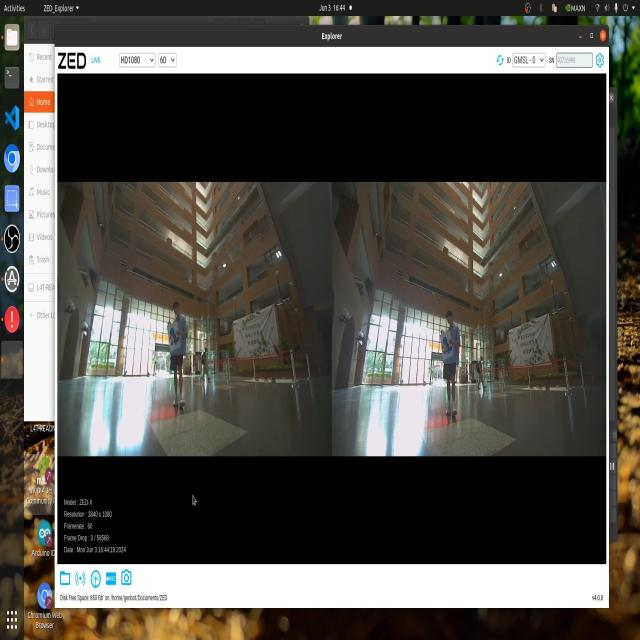blue: (440, 333, 452, 358), (164, 324, 176, 346)
